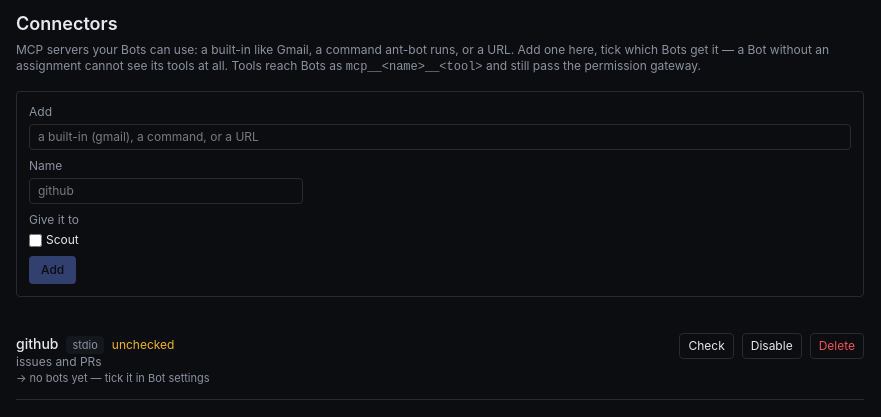
Test: ConnectorsScreen › shows why a check failed rather than going quiet
Click the button "Check".
click(707, 346)  # box [679, 333, 734, 359]
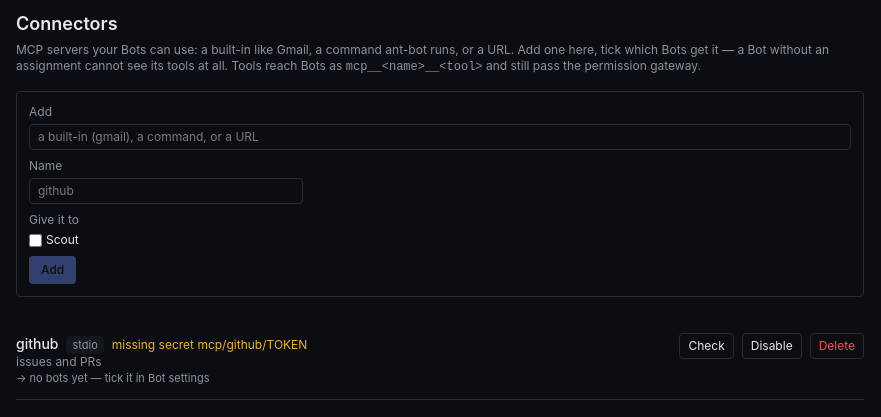
Now the text "missing secret mcp/github/TOKEN" is shown, box [112, 337, 307, 352]
